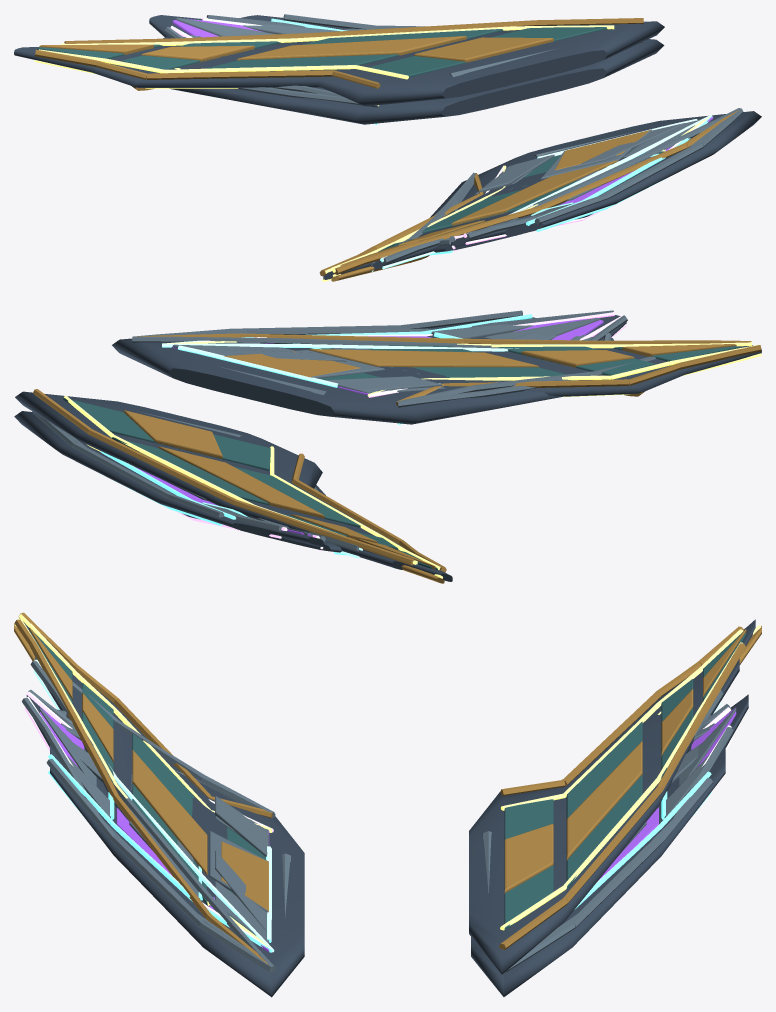
File: wings.glb
3 views of the same model, one above another, from view 1: azimuth 30°, elevation 25°; view 2: azimuth 150°, elevation 25°; view 3: azimuth 270°, elevation 25° (orthographic). The views are drawn at different scales.
Visible parts, largest first — view 1: w_phantom Champagne gold edging, w_phantom Fitting gunmetal, w_razor Fitting gunmetal, w_phantom Phantom blue-black enamel, w_vane Fitting gunmetal, w_vane Brushed fitting edges, w_razor Brushed fitting edges, w_phantom w_phantom emitter, w_prism Brushed fitting edges, w_vane w_vane emitter, w_razor w_razor emitter, w_prism Violet prismatic glass (+2 smaller); view 2: w_phantom Champagne gold edging, w_phantom Fitting gunmetal, w_razor Fitting gunmetal, w_phantom Phantom blue-black enamel, w_vane Brushed fitting edges, w_razor Brushed fitting edges, w_vane Fitting gunmetal, w_phantom w_phantom emitter, w_prism Brushed fitting edges, w_vane w_vane emitter, w_razor w_razor emitter, w_prism w_prism emitter (+2 smaller); view 3: w_phantom Champagne gold edging, w_phantom Fitting gunmetal, w_phantom Phantom blue-black enamel, w_vane Fitting gunmetal, w_vane Brushed fitting edges, w_razor Fitting gunmetal, w_razor Brushed fitting edges, w_prism Brushed fitting edges, w_phantom w_phantom emitter, w_vane w_vane emitter, w_prism Violet prismatic glass, w_razor w_razor emitter (+2 smaller).
Boxes of the visible parts, x1=… form: w_phantom Champagne gold edging: x1=35, y1=18, x2=739, y2=281; w_phantom Fitting gunmetal: x1=14, y1=21, x2=694, y2=279; w_razor Fitting gunmetal: x1=233, y1=39, x2=749, y2=269; w_phantom Phantom blue-black enamel: x1=37, y1=27, x2=689, y2=251; w_vane Fitting gunmetal: x1=163, y1=15, x2=761, y2=252; w_vane Brushed fitting edges: x1=183, y1=14, x2=743, y2=245; w_razor Brushed fitting edges: x1=274, y1=42, x2=740, y2=265; w_phantom w_phantom emitter: x1=35, y1=25, x2=710, y2=281; w_prism Brushed fitting edges: x1=164, y1=15, x2=740, y2=242; w_vane w_vane emitter: x1=271, y1=18, x2=712, y2=255; w_razor w_razor emitter: x1=372, y1=115, x2=711, y2=271; w_prism Violet prismatic glass: x1=172, y1=19, x2=713, y2=205; w_phantom Champagne gold edging: x1=33, y1=333, x2=761, y2=583; w_phantom Fitting gunmetal: x1=15, y1=342, x2=761, y2=581; w_razor Fitting gunmetal: x1=26, y1=339, x2=522, y2=569; w_phantom Phantom blue-black enamel: x1=63, y1=342, x2=738, y2=570; w_vane Brushed fitting edges: x1=32, y1=310, x2=611, y2=545; w_razor Brushed fitting edges: x1=132, y1=336, x2=656, y2=551; w_vane Fitting gunmetal: x1=14, y1=317, x2=613, y2=552; w_phantom w_phantom emitter: x1=64, y1=341, x2=761, y2=578; w_prism Brushed fitting edges: x1=54, y1=310, x2=627, y2=541; w_vane w_vane emitter: x1=99, y1=314, x2=532, y2=555; w_razor w_razor emitter: x1=162, y1=343, x2=518, y2=558; w_prism w_prism emitter: x1=132, y1=312, x2=626, y2=551; w_phantom Champagne gold edging: x1=14, y1=612, x2=761, y2=964; w_phantom Fitting gunmetal: x1=23, y1=619, x2=755, y2=974; w_phantom Phantom blue-black enamel: x1=29, y1=630, x2=746, y2=952; w_vane Fitting gunmetal: x1=50, y1=714, x2=725, y2=996; w_vane Brushed fitting edges: x1=46, y1=709, x2=714, y2=972; w_razor Fitting gunmetal: x1=36, y1=658, x2=739, y2=997; w_razor Brushed fitting edges: x1=30, y1=656, x2=723, y2=971; w_prism Brushed fitting edges: x1=22, y1=689, x2=736, y2=966; w_phantom w_phantom emitter: x1=15, y1=614, x2=760, y2=948; w_vane w_vane emitter: x1=48, y1=754, x2=711, y2=952; w_prism Violet prismatic glass: x1=39, y1=707, x2=736, y2=952; w_razor w_razor emitter: x1=34, y1=659, x2=721, y2=952.
Bounding box in the file's own units: 47.85 × 5.53 × 47.73.
